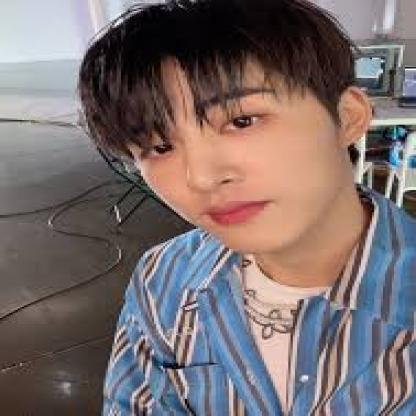person: (101, 12, 374, 260)
